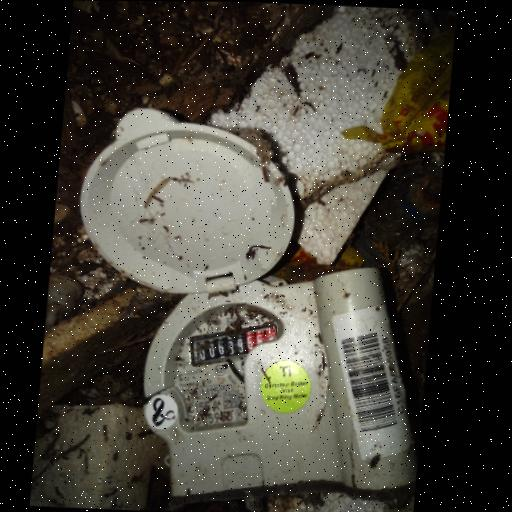0: (204, 338, 220, 359)
3: (222, 335, 238, 356)
6: (242, 331, 257, 354), (214, 337, 229, 358), (252, 330, 265, 346)
9: (193, 340, 209, 362), (232, 333, 248, 354)
border_water_meter_number: (184, 320, 282, 370)
